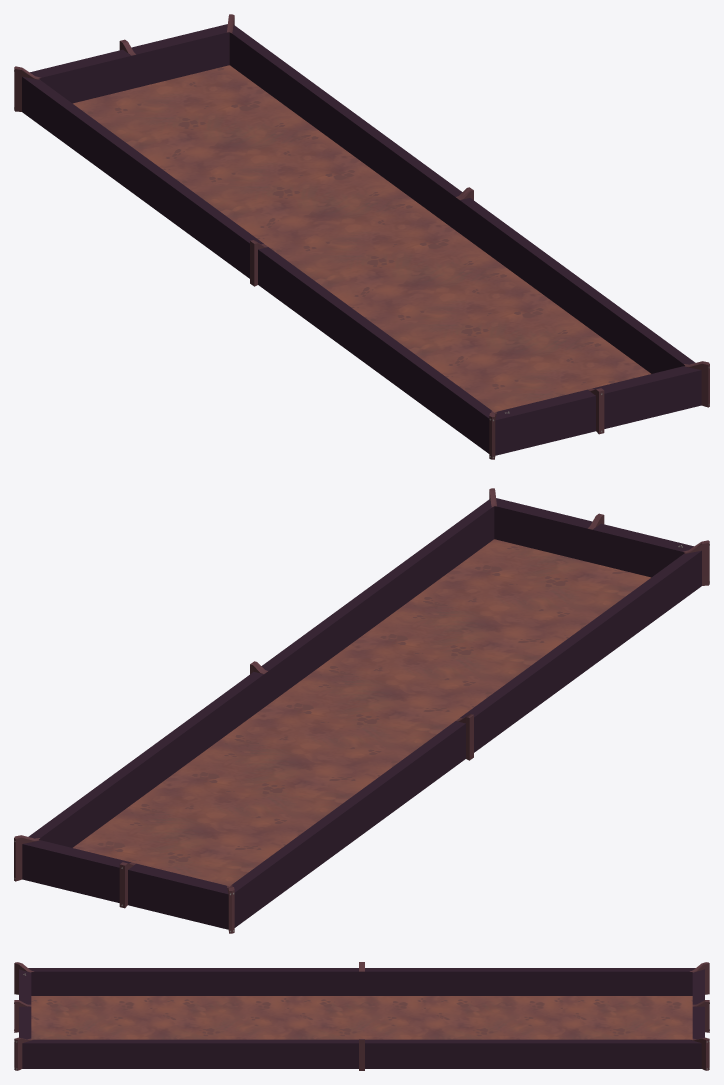
File: CaixaDecorativaEstufa.fbx
3 renders of one model, top to bottom at view 1: azimuth 30°, elevation 25°; view 2: azimuth 150°, elevation 25°; view 3: azimuth 270°, elevation 25°, orthographic. The views are drawn at different scales.
Visible parts, largest first — view 1: Horta_LOD0; view 2: Horta_LOD0; view 3: Horta_LOD0.
Part boxes in pixels (box(x1,y1,x2,y2)): Horta_LOD0: box(14, 14, 709, 459); Horta_LOD0: box(14, 488, 709, 933); Horta_LOD0: box(14, 962, 709, 1070).
Size of what is drawn, in the model's own units: 2.69 by 0.5 by 10.17.
